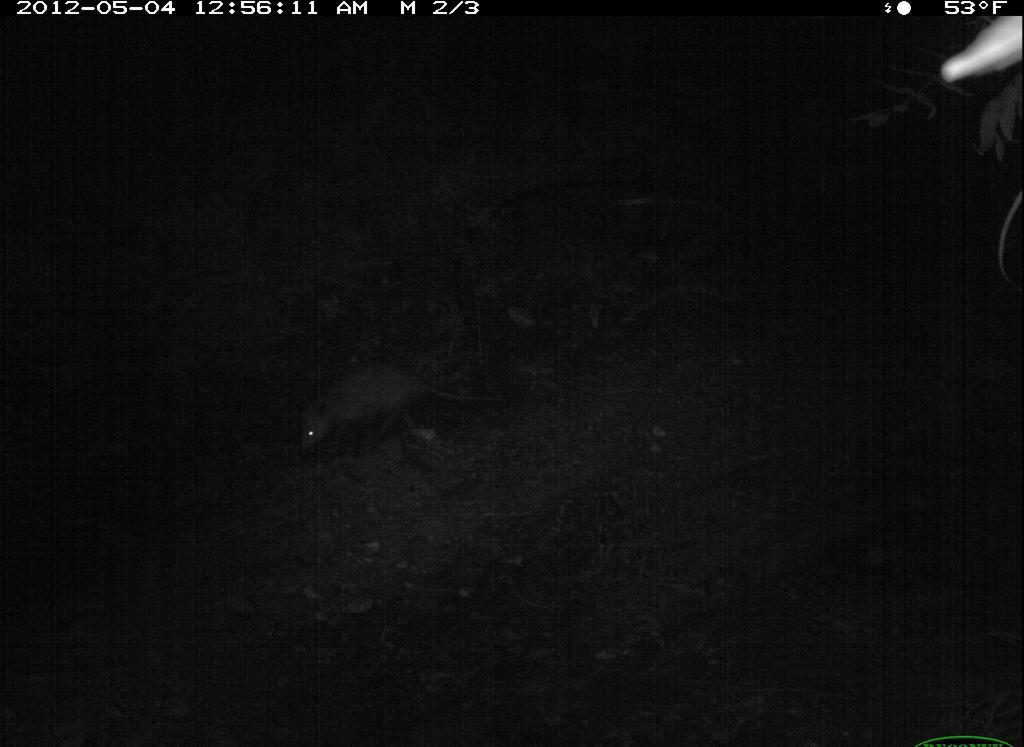opossum: (282, 355, 489, 465)
